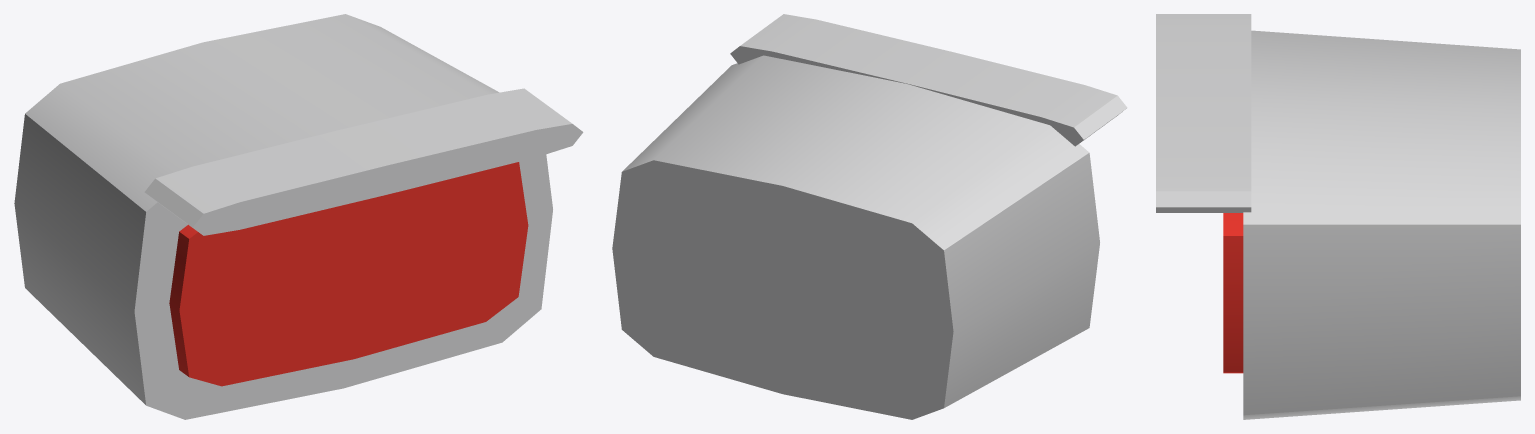
File: lucas.glb
The picture shows the model from 3 angles, left to right: view 1: azimuth 30°, elevation 25°; view 2: azimuth 150°, elevation 25°; view 3: azimuth 270°, elevation 25°; orthographic projection. The views are drawn at different scales.
Visible parts, largest first — view 1: lod0; view 2: lod0; view 3: lod0.
Part boxes in pixels (box(x1,y1,x2,y2)): lod0: box(14, 14, 583, 419); lod0: box(612, 14, 1127, 419); lod0: box(1156, 14, 1520, 419).
Size of what is drawn, in the model's own units: 0.12 by 0.07 by 0.092.
